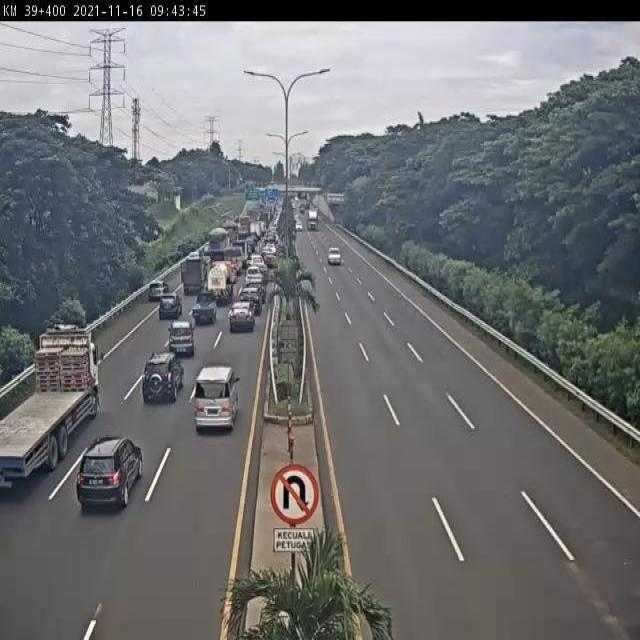Car: (73, 427, 145, 508), (191, 364, 240, 431), (142, 350, 185, 403), (167, 319, 196, 357), (228, 301, 256, 332), (191, 295, 217, 325), (158, 292, 182, 320), (328, 247, 342, 265)
Truck: (0, 318, 101, 477), (204, 265, 233, 299)
